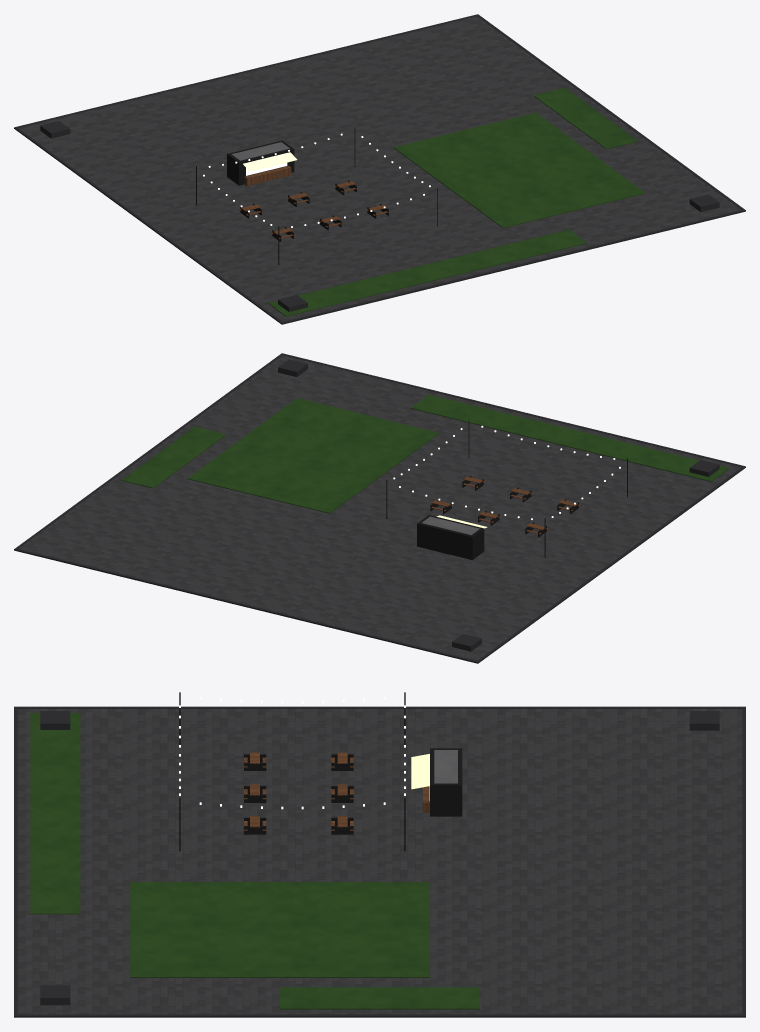
File: fans_L1.glb
The picture shows the model from 3 angles, top to bottom: view 1: azimuth 30°, elevation 25°; view 2: azimuth 150°, elevation 25°; view 3: azimuth 270°, elevation 25°; orthographic projection. The views are drawn at different scales.
Visible parts, largest first — view 1: paving_fans_L1, lawn_fans_L1, concrete_dark_fans_L1, black_metal_fans_L1, wood_fans_L1; view 2: paving_fans_L1, lawn_fans_L1, concrete_dark_fans_L1, black_metal_fans_L1, wood_fans_L1; view 3: paving_fans_L1, lawn_fans_L1, concrete_dark_fans_L1, black_metal_fans_L1, wood_fans_L1, roofing_fans_L1, emissive_led_fans_L1.
Part boxes in pixels (x1,y1,x2,y2): paving_fans_L1: (18,16,741,321); lawn_fans_L1: (268,87,645,316); concrete_dark_fans_L1: (14,14,745,324); black_metal_fans_L1: (196,127,437,265); wood_fans_L1: (239,166,389,238); paving_fans_L1: (18,355,741,660); lawn_fans_L1: (121,394,729,513); concrete_dark_fans_L1: (14,353,745,663); black_metal_fans_L1: (386,420,627,559); wood_fans_L1: (429,476,579,534); paving_fans_L1: (17,708,742,1014); lawn_fans_L1: (30,713,479,1009); concrete_dark_fans_L1: (14,706,745,1017); black_metal_fans_L1: (179,692,462,851); wood_fans_L1: (244,752,429,830); roofing_fans_L1: (434,750,457,783); emissive_led_fans_L1: (411,754,429,789).
Size of the model in its own units: 58.6 by 4.8 by 58.6.
Materials: 8 (4 with a texture image).
